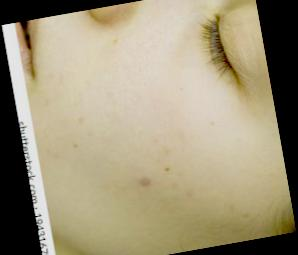Acne: (140, 174, 153, 186), (110, 36, 119, 44), (78, 114, 86, 122), (163, 164, 170, 170), (72, 141, 79, 147), (210, 120, 218, 125)
